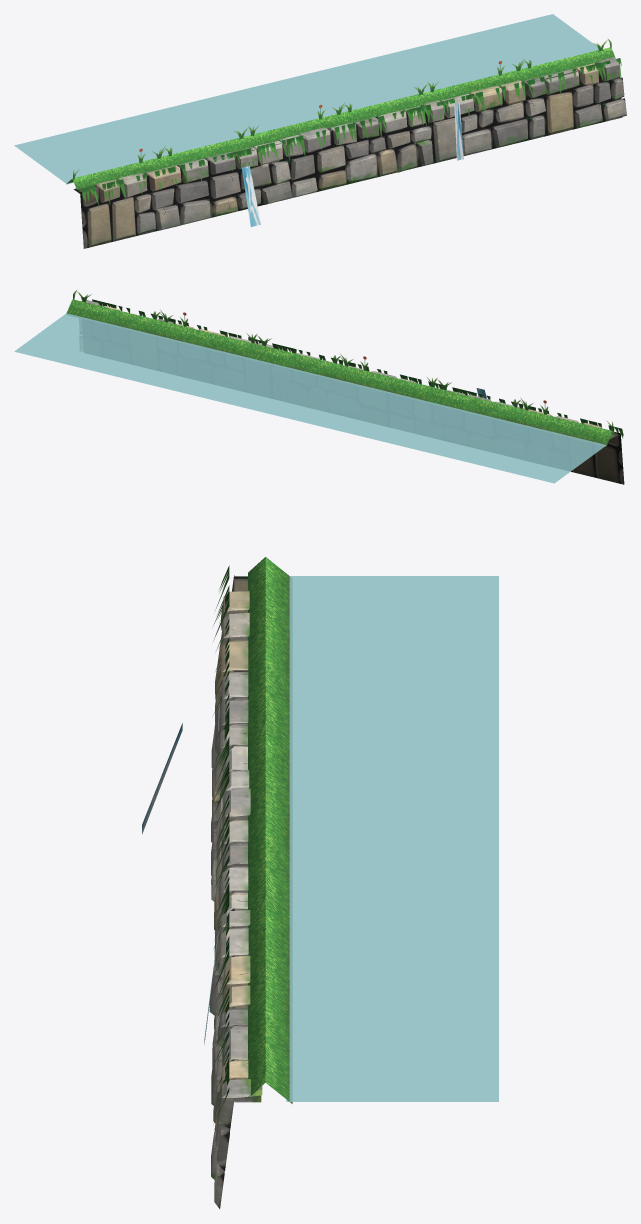
File: terrace_straight_flooded_mid.glb
The picture shows the model from 3 angles, top to bottom: view 1: azimuth 30°, elevation 25°; view 2: azimuth 150°, elevation 25°; view 3: azimuth 270°, elevation 25°; orthographic projection. The views are drawn at different scales.
Parts seen in each view (by area): view 1: terrace_straight_flooded_mid_wall, terrace_straight_flooded_mid_water, terrace_straight_flooded_mid_dike, terrace_straight_flooded_mid_cards, terrace_straight_flooded_mid_falls; view 2: terrace_straight_flooded_mid_water, terrace_straight_flooded_mid_dike, terrace_straight_flooded_mid_wall, terrace_straight_flooded_mid_cards; view 3: terrace_straight_flooded_mid_water, terrace_straight_flooded_mid_dike, terrace_straight_flooded_mid_wall, terrace_straight_flooded_mid_cards.
Boxes of the visible parts, box(x1,y1,x2,y2) form: terrace_straight_flooded_mid_wall: box(73, 56, 626, 248); terrace_straight_flooded_mid_water: box(14, 14, 598, 184); terrace_straight_flooded_mid_dike: box(66, 47, 615, 189); terrace_straight_flooded_mid_cards: box(73, 38, 621, 205); terrace_straight_flooded_mid_falls: box(242, 102, 463, 226); terrace_straight_flooded_mid_water: box(14, 313, 607, 483); terrace_straight_flooded_mid_dike: box(66, 299, 616, 446); terrace_straight_flooded_mid_wall: box(79, 300, 624, 484); terrace_straight_flooded_mid_cards: box(73, 290, 623, 438); terrace_straight_flooded_mid_water: box(286, 576, 498, 1101); terrace_straight_flooded_mid_dike: box(248, 557, 292, 1103); terrace_straight_flooded_mid_wall: box(209, 575, 262, 1208); terrace_straight_flooded_mid_cards: box(213, 565, 229, 1122).
Size of the model in its own units: 12.1 by 1.79 by 3.44.
5 materials, 4 textured.
